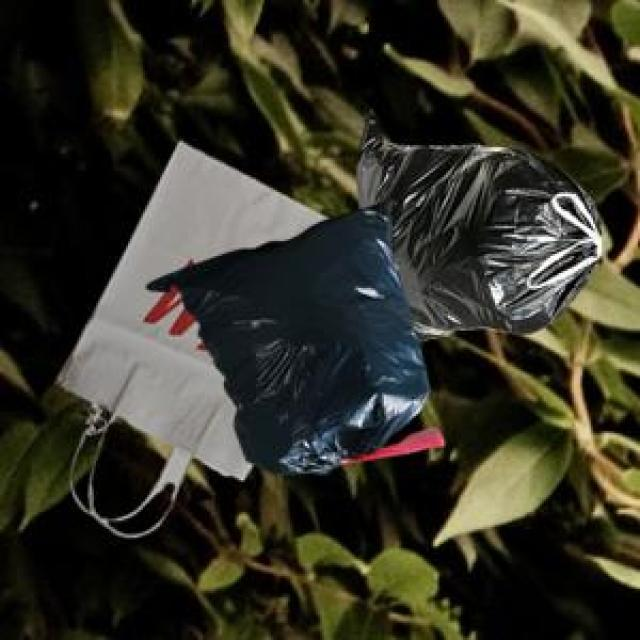miscellaneous trash: (143, 198, 440, 469), (354, 107, 597, 337)
paper: (53, 137, 324, 514)
